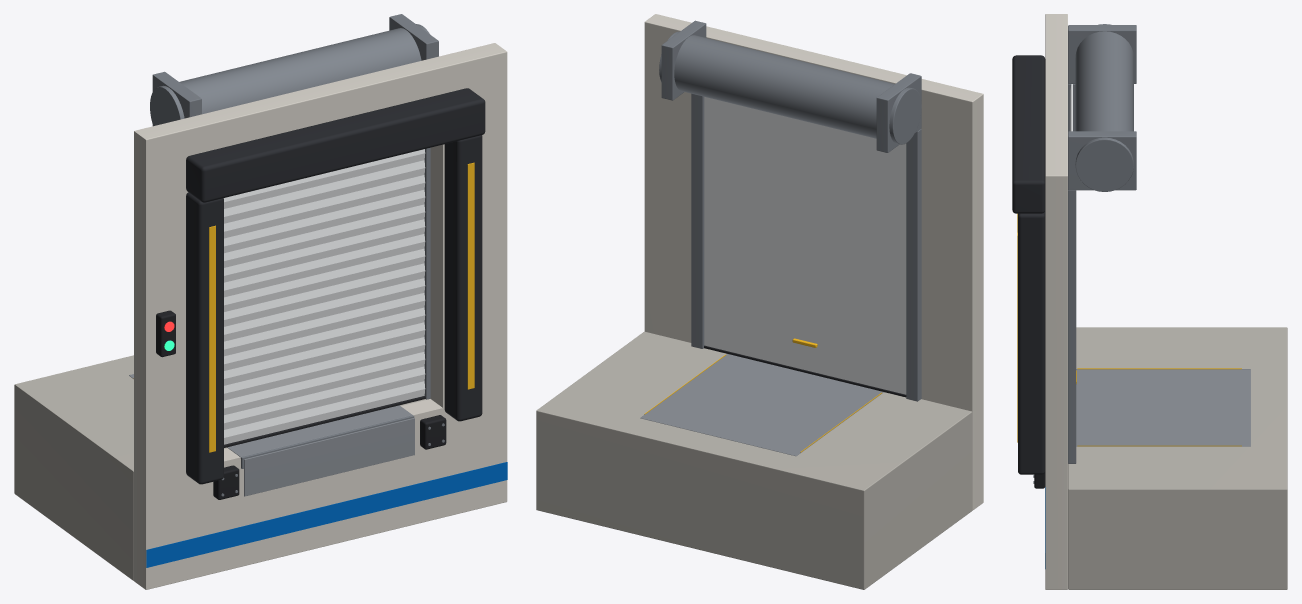
Rendered from dock_door.glb.
3 views of the same model, side by side, from view 1: azimuth 30°, elevation 25°; view 2: azimuth 150°, elevation 25°; view 3: azimuth 270°, elevation 25° (orthographic). The views are drawn at different scales.
Visible parts, largest first — view 1: dock_frame_geo, door_roll_geo, leveler_lip_geo; view 2: dock_frame_geo, door_roll_geo; view 3: dock_frame_geo.
Part boxes in pixels (x1,y1,x2,y2): dock_frame_geo: (14, 14, 507, 589); door_roll_geo: (223, 149, 425, 447); leveler_lip_geo: (244, 418, 414, 496); dock_frame_geo: (536, 14, 983, 589); door_roll_geo: (704, 97, 906, 397); dock_frame_geo: (1012, 14, 1287, 589).
Bounding box in the file's own units: 4.2 × 5.17 × 3.01.
